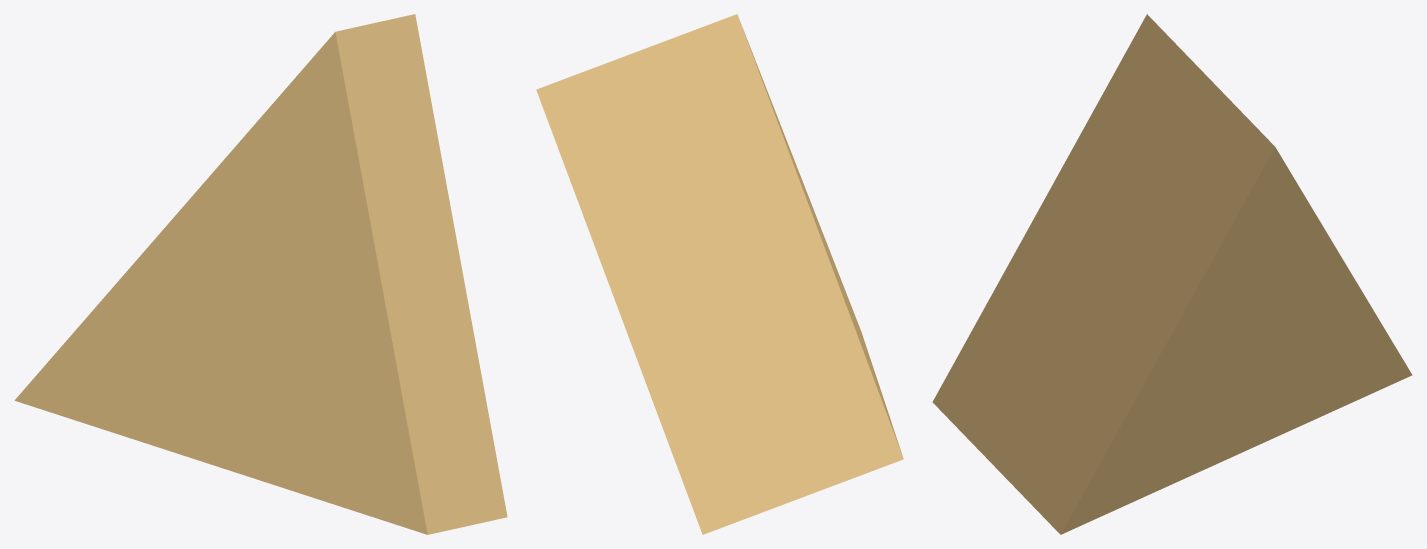
The picture shows the model from 3 angles, left to right: view 1: azimuth 30°, elevation 25°; view 2: azimuth 150°, elevation 25°; view 3: azimuth 270°, elevation 25°; orthographic projection. The views are drawn at different scales.
Parts seen in each view (by area): view 1: Cone_2; view 2: Cone_2; view 3: Cone_2.
Part boxes in pixels (x1,y1,x2,y2): Cone_2: [14, 14, 507, 534]; Cone_2: [536, 14, 903, 534]; Cone_2: [932, 14, 1412, 534].
Size of the model in its own units: 1.41 by 1.65 by 1.55.
